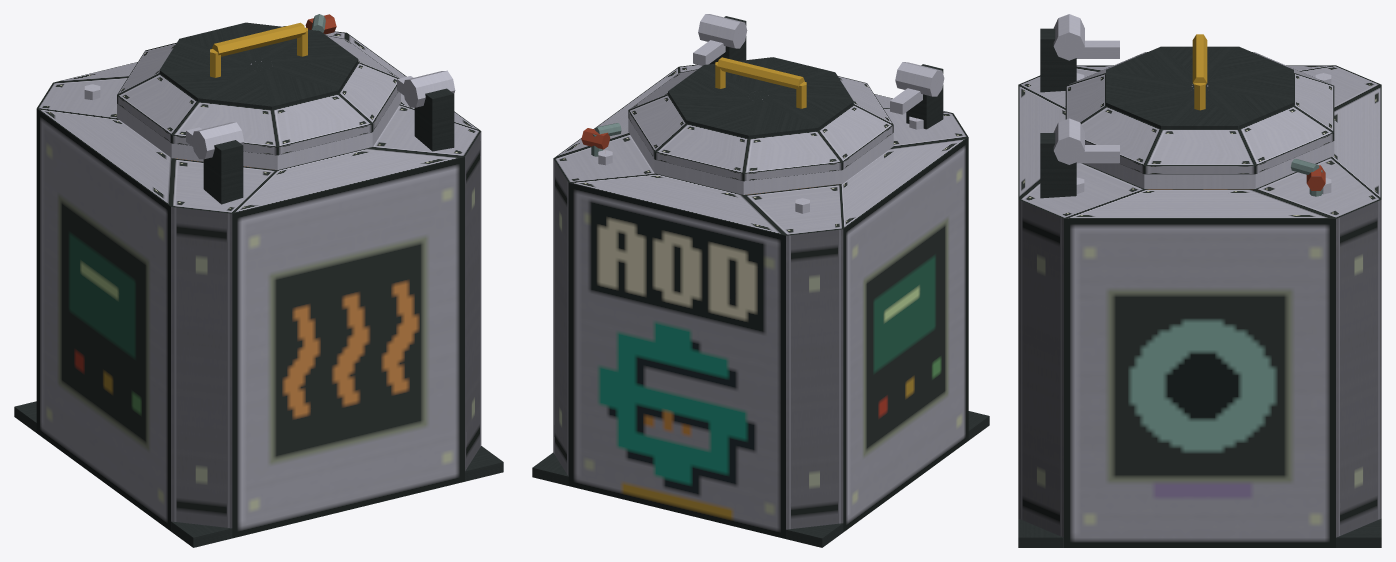
File: small_aod_stainless_steel.obj
3 renders of one model, left to right at view 1: azimuth 30°, elevation 25°; view 2: azimuth 150°, elevation 25°; view 3: azimuth 270°, elevation 25°, orthographic. The views are drawn at different scales.
Parts seen in each view (by area): view 1: contact_south, contact_west, lid, cut_corners, shoulder, hinge, sole_edge; view 2: contact_north, contact_west, lid, cut_corners, shoulder, hinge, sole_edge, gas_trim; view 3: contact_east, lid, cut_corners, shoulder, hinge, sole_edge, gas_trim.
Boxes of the visible parts, box(x1,y1,x2,y2) form: contact_south: box(232, 157, 464, 538); contact_west: box(36, 109, 170, 531); lid: box(117, 22, 413, 169); cut_corners: box(171, 131, 481, 528); shoulder: box(37, 26, 480, 213); hinge: box(191, 70, 455, 204); sole_edge: box(14, 401, 503, 547); contact_north: box(568, 183, 785, 538); contact_west: box(843, 137, 968, 532); lid: box(628, 40, 922, 194); cut_corners: box(553, 159, 843, 529); shoulder: box(553, 64, 968, 235); hinge: box(698, 14, 944, 129); sole_edge: box(532, 411, 989, 547); gas_trim: box(581, 123, 621, 156); contact_east: box(1064, 219, 1335, 547); lid: box(1065, 34, 1334, 188); cut_corners: box(1018, 200, 1381, 537); shoulder: box(1018, 65, 1381, 218); hinge: box(1040, 14, 1084, 198); sole_edge: box(1018, 518, 1381, 547); gas_trim: box(1291, 159, 1325, 196).
Size of the model in its own units: 1 by 1.26 by 1.
Materials: 14 (14 with a texture image).
